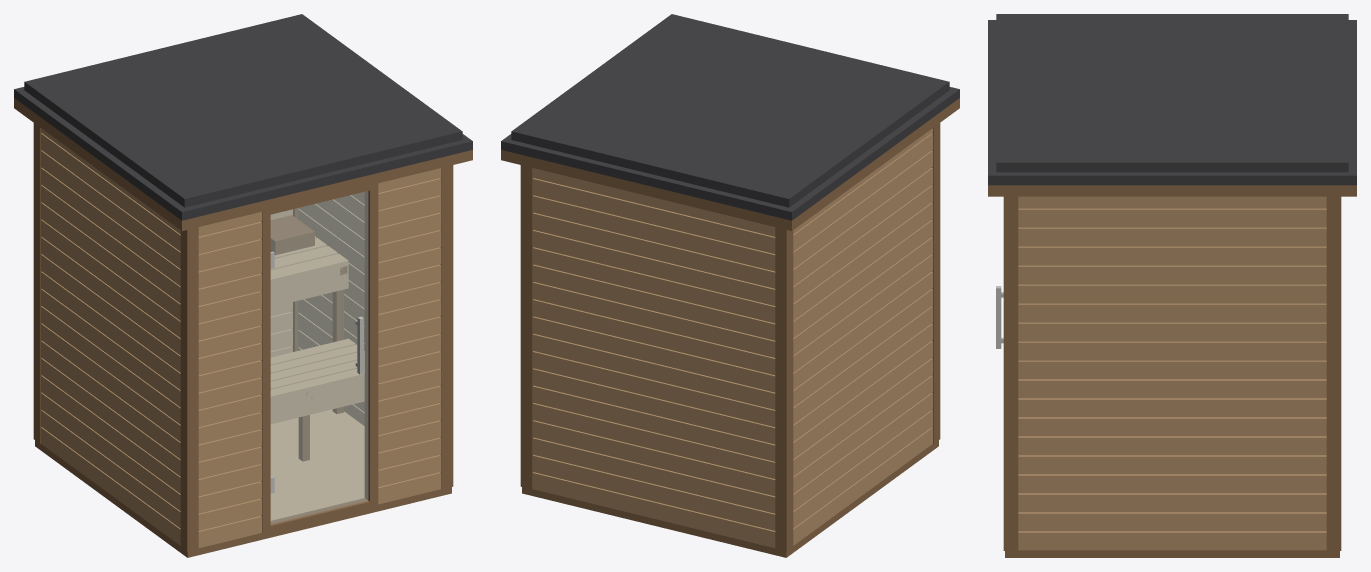
The model's file is espoo-compact.glb.
The picture shows the model from 3 angles, left to right: view 1: azimuth 30°, elevation 25°; view 2: azimuth 150°, elevation 25°; view 3: azimuth 270°, elevation 25°; orthographic projection. The views are drawn at different scales.
Parts seen in each view (by area): view 1: roof, wall_left, wall_front, door, frame, floor, wall_right, bench_lower, bench_upper, wall_back; view 2: wall_back, roof, wall_left, frame, floor; view 3: wall_right, roof, frame, floor.
Boxes of the visible parts, box(x1,y1,x2,y2) form: roof: box(14, 14, 472, 230); wall_left: box(41, 128, 180, 545); wall_front: box(198, 168, 441, 548); door: box(261, 183, 378, 533); frame: box(33, 123, 453, 551); floor: box(35, 409, 451, 557); wall_right: box(298, 192, 364, 425); bench_lower: box(270, 338, 364, 461); bench_upper: box(270, 215, 348, 413); wall_back: box(270, 209, 292, 357); wall_back: box(532, 168, 775, 548); roof: box(501, 14, 959, 230); wall_left: box(793, 128, 932, 545); frame: box(520, 123, 940, 551); floor: box(522, 440, 938, 557); wall_right: box(1018, 196, 1326, 550); roof: box(988, 14, 1356, 196); frame: box(1003, 196, 1341, 550); floor: box(1005, 550, 1339, 557).
Bounding box in the file's own units: 1.76 × 2.1 × 1.76.
